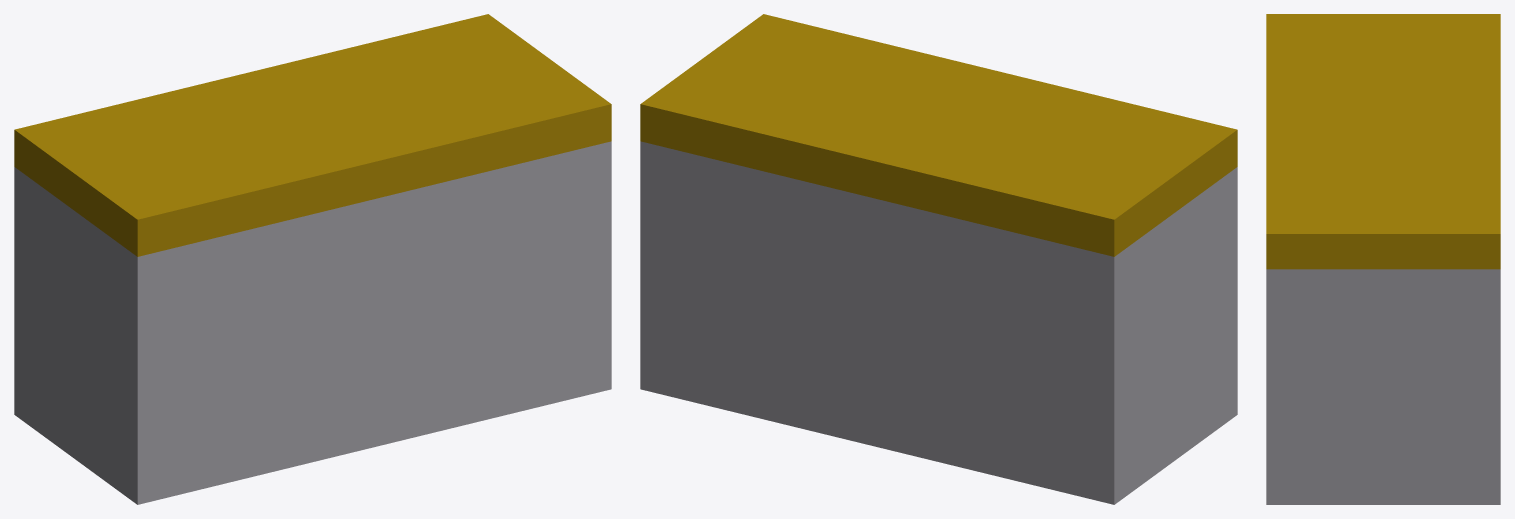
The picture shows the model from 3 angles, left to right: view 1: azimuth 30°, elevation 25°; view 2: azimuth 150°, elevation 25°; view 3: azimuth 270°, elevation 25°; orthographic projection. The views are drawn at different scales.
Visible parts, largest first — view 1: Wall, Ledge_Grab; view 2: Wall, Ledge_Grab; view 3: Ledge_Grab, Wall.
Boxes of the visible parts, x1=… form: Wall: x1=14, y1=141, x2=611, y2=504; Ledge_Grab: x1=14, y1=14, x2=611, y2=256; Wall: x1=640, y1=141, x2=1237, y2=504; Ledge_Grab: x1=640, y1=14, x2=1237, y2=256; Ledge_Grab: x1=1266, y1=14, x2=1500, y2=269; Wall: x1=1266, y1=269, x2=1500, y2=504.
Size of what is drawn, in the model's own units: 4 by 2.3 by 1.8.
